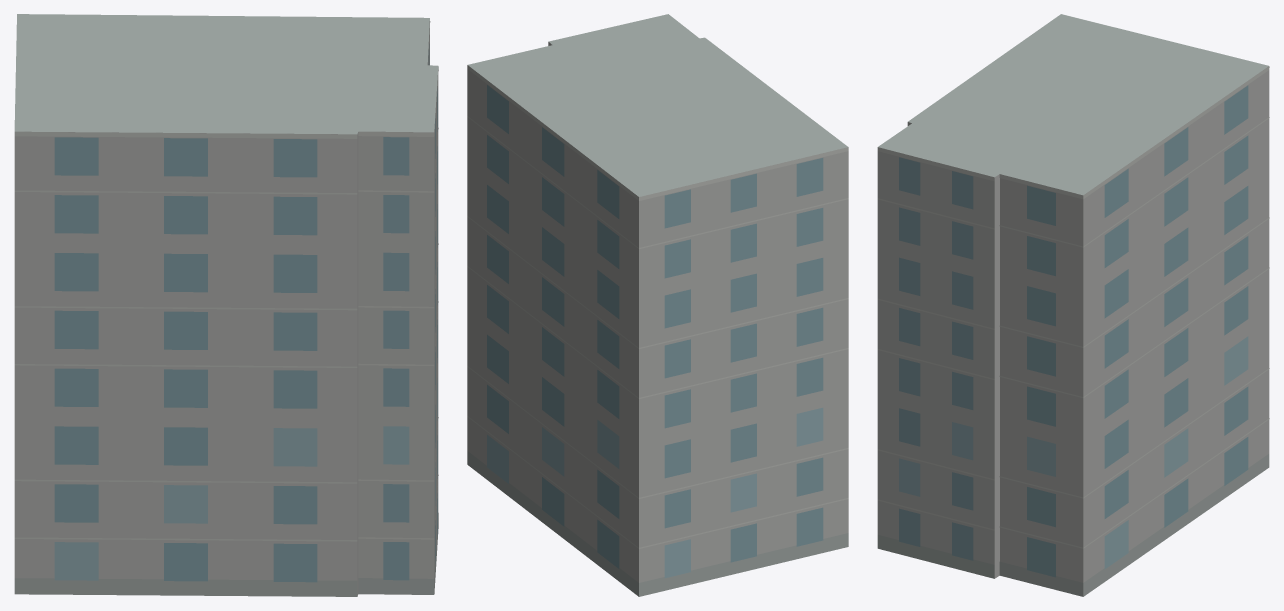
Rendered from survey-upis-32819179.glb.
The picture shows the model from 3 angles, left to right: view 1: azimuth 30°, elevation 25°; view 2: azimuth 150°, elevation 25°; view 3: azimuth 270°, elevation 25°; orthographic projection. The views are drawn at different scales.
Visible parts, largest first — view 1: survey-upis-32819179.tmp; view 2: survey-upis-32819179.tmp; view 3: survey-upis-32819179.tmp.
Boxes of the visible parts, bbox=[...] form: survey-upis-32819179.tmp: bbox=[14, 14, 438, 596]; survey-upis-32819179.tmp: bbox=[467, 14, 848, 596]; survey-upis-32819179.tmp: bbox=[877, 14, 1269, 596].
Bounding box in the file's own units: 23.56 × 24.3 × 21.5.
